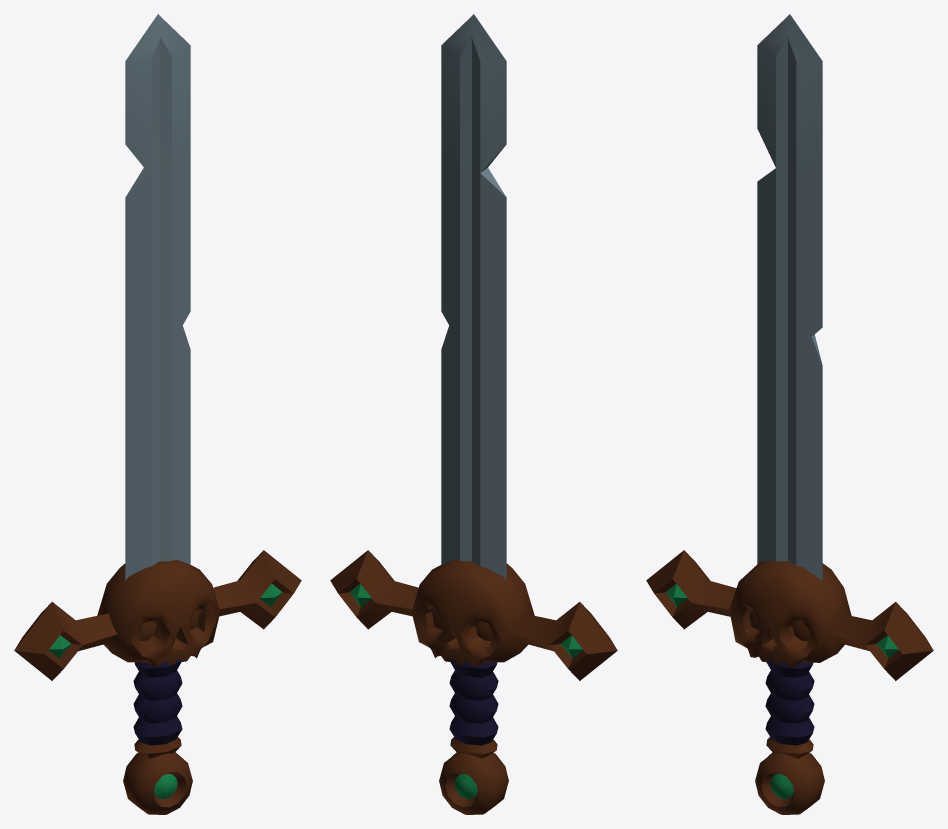
File: sword.obj
The picture shows the model from 3 angles, left to right: view 1: azimuth 30°, elevation 25°; view 2: azimuth 150°, elevation 25°; view 3: azimuth 330°, elevation 25°; orthographic projection.
Parts seen in each view (by area): view 1: sword_Cube.8231; view 2: sword_Cube.8231; view 3: sword_Cube.8231.
Boxes of the visible parts, left/top/right/bottom form: sword_Cube.8231: left=14, top=14, right=301, bottom=814; sword_Cube.8231: left=330, top=14, right=617, bottom=814; sword_Cube.8231: left=646, top=14, right=933, bottom=814.
Size of the model in its own units: 0.633 by 1.68 by 0.1701.
